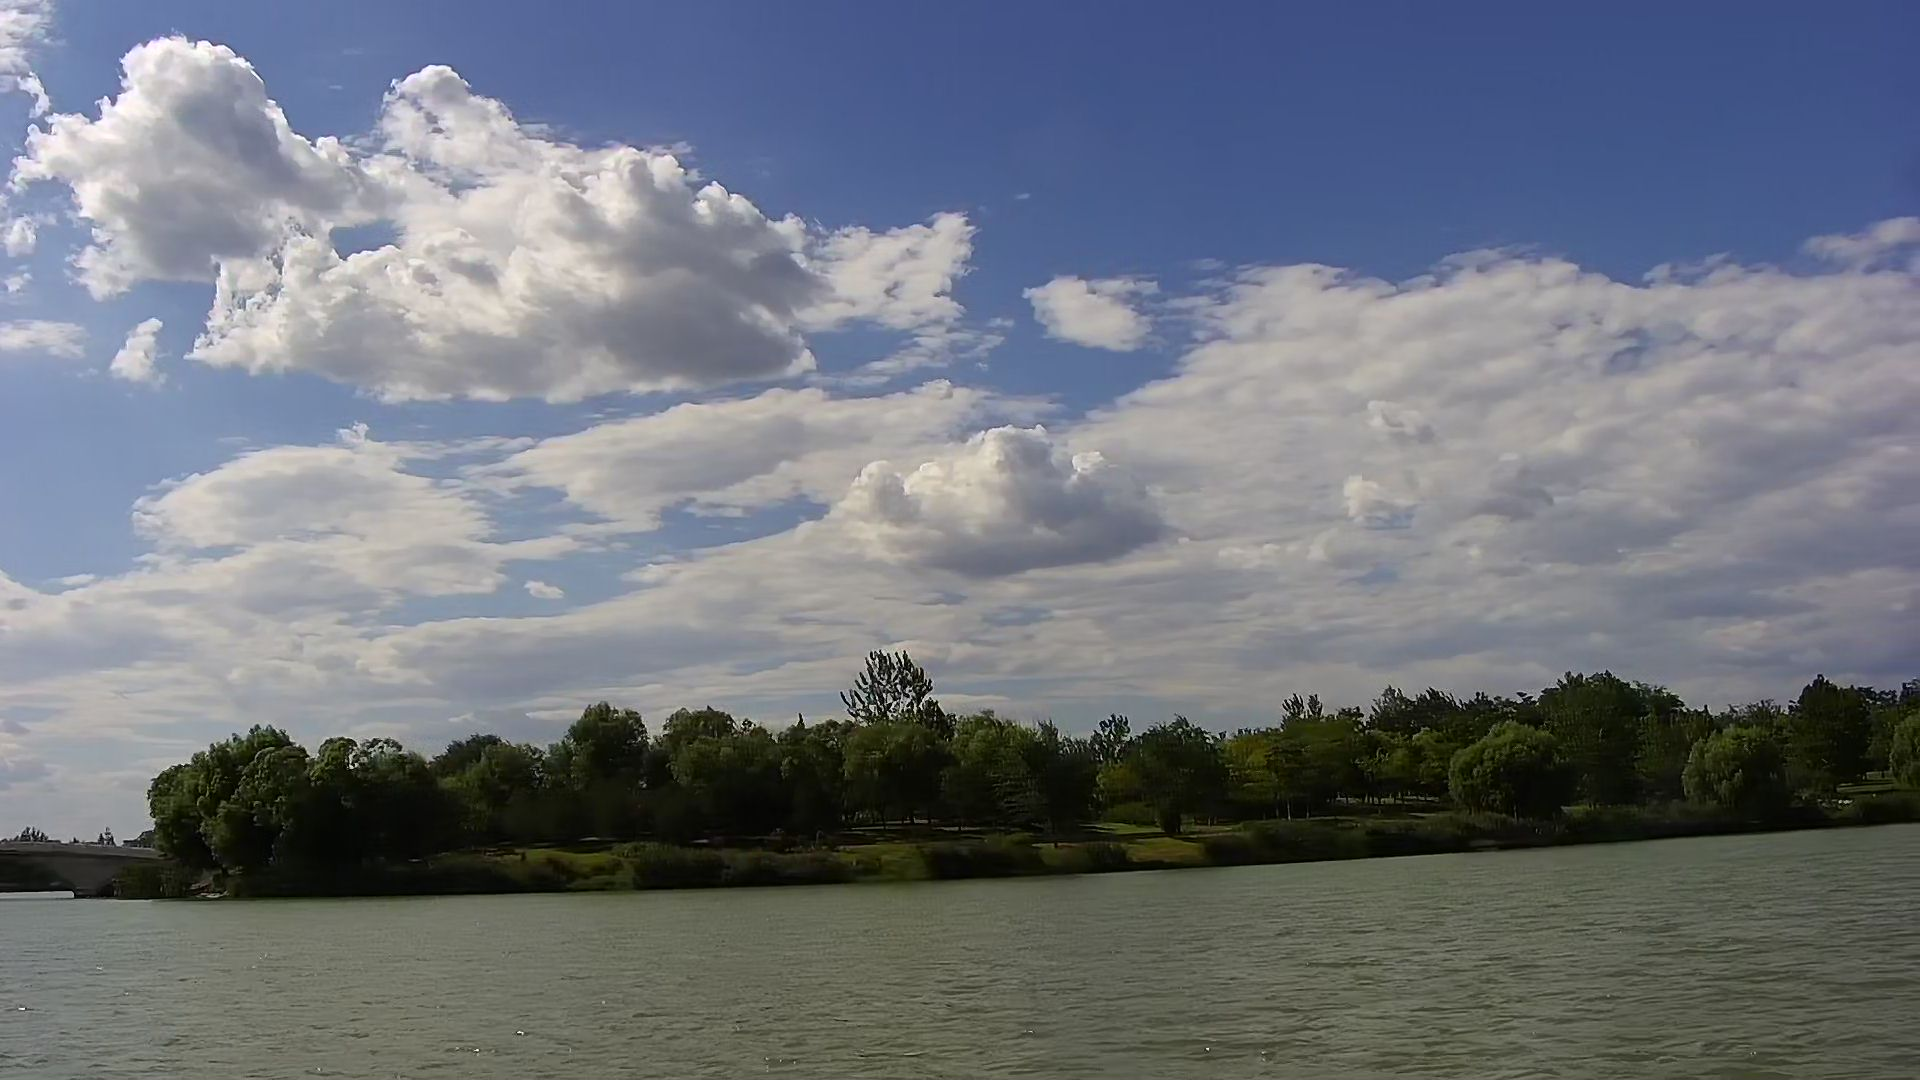bridge: (3, 840, 152, 901)
